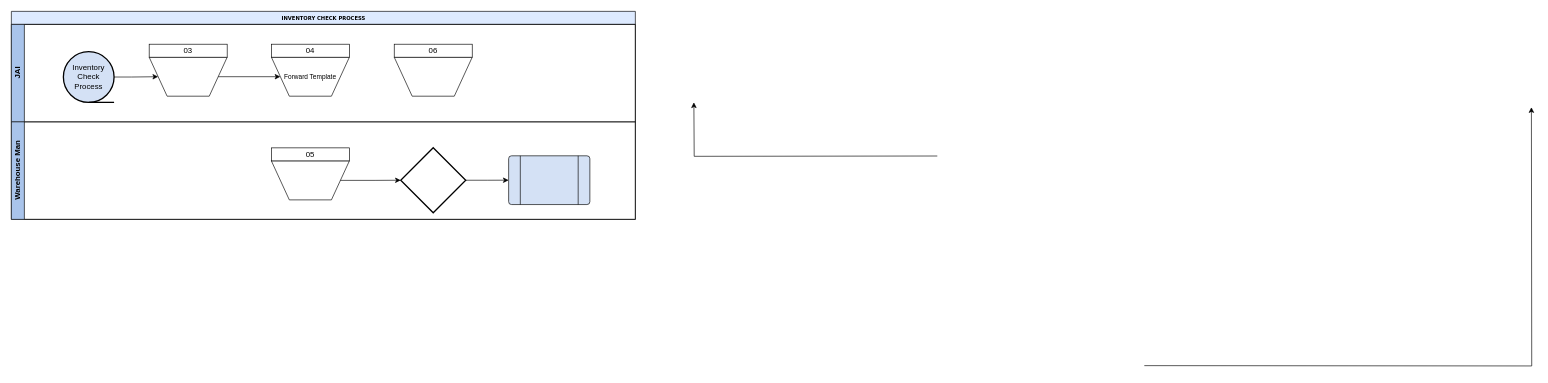
Some shapes in this 1548 by 383 pixel diagram are drawn without their labels. The shapes that lost their labels are listed below. From the top down, each one's centre as x and y in pixels, then its label:
At [188,76]: "Review & Print Template".
At [433,76]: "Return Template To Requestor".
At [310,180]: "Check Stock".
At [433,180]: "With Stock?".
At [549,180]: "Advice Requestor".
